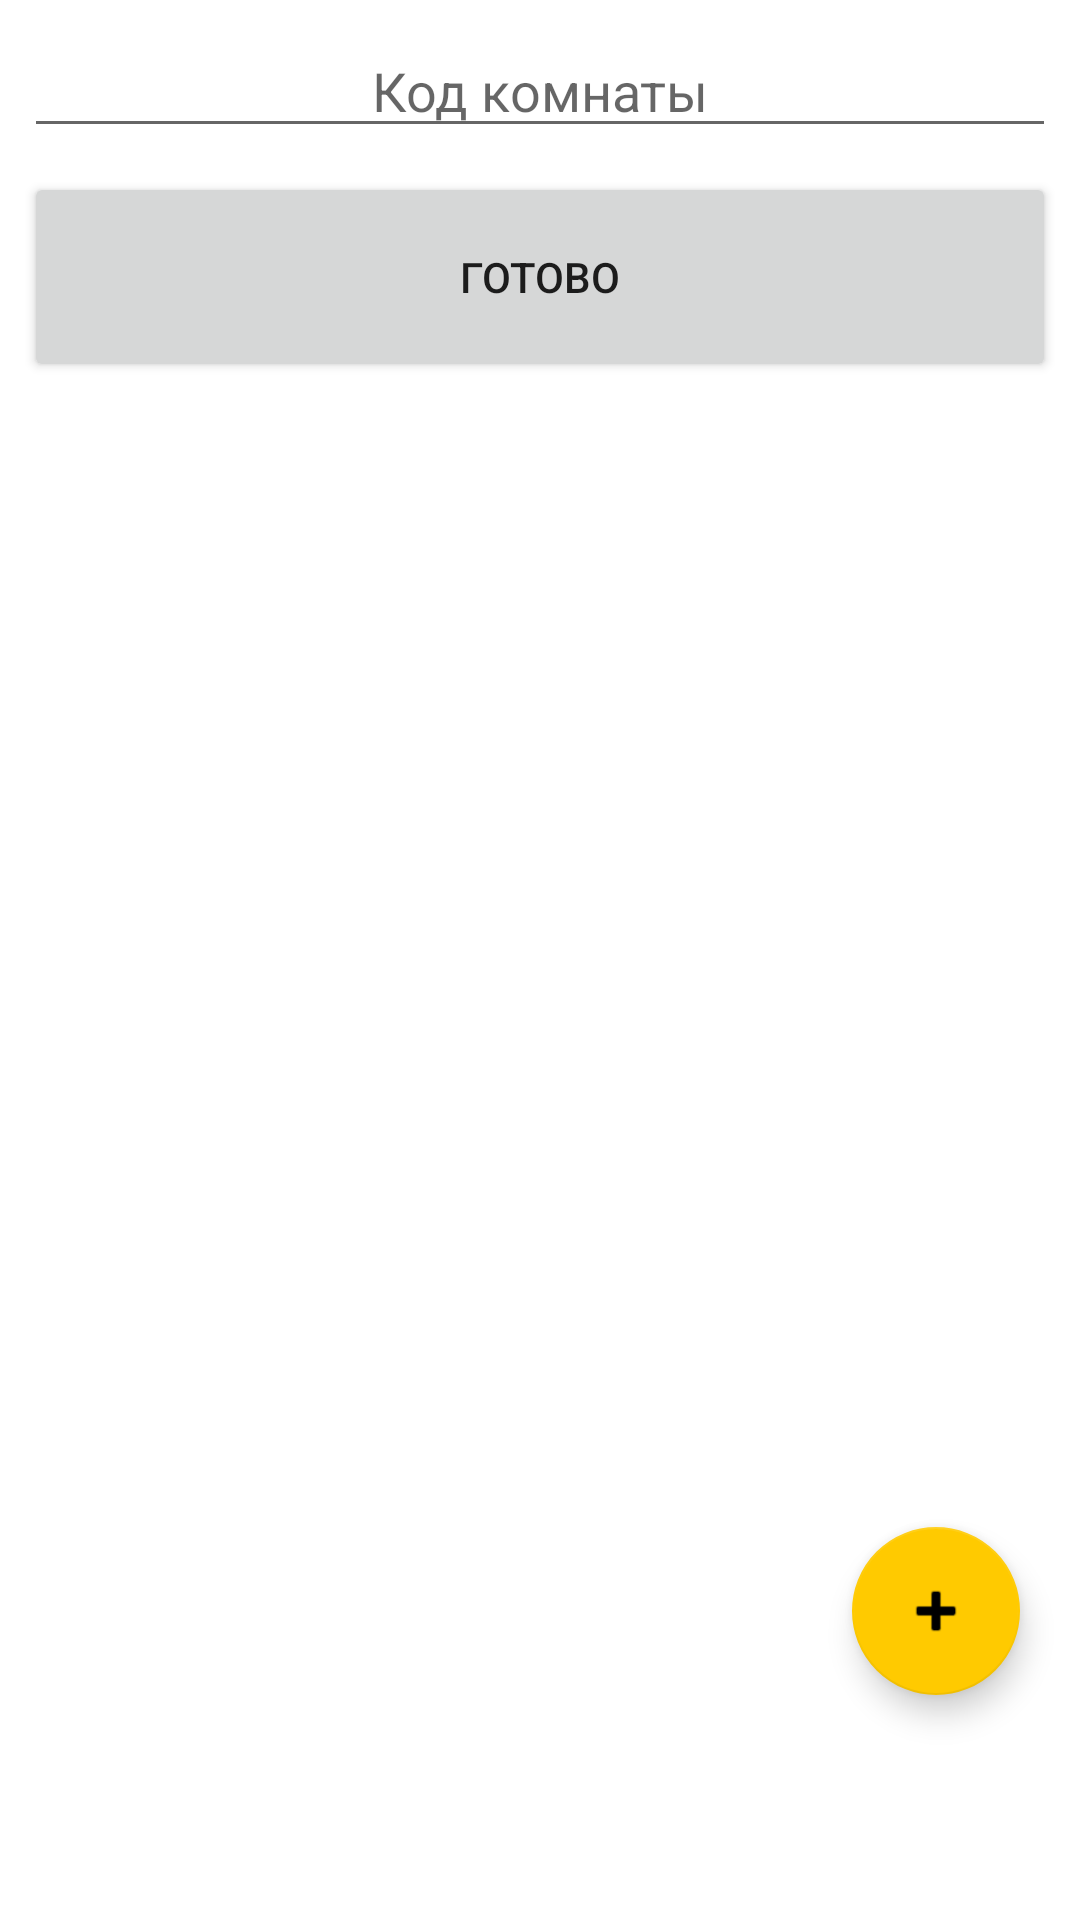

Named icons in this screenshot (1080px×1920px) and their centers, (x=x, y=y):
add: (x=936, y=1611)
